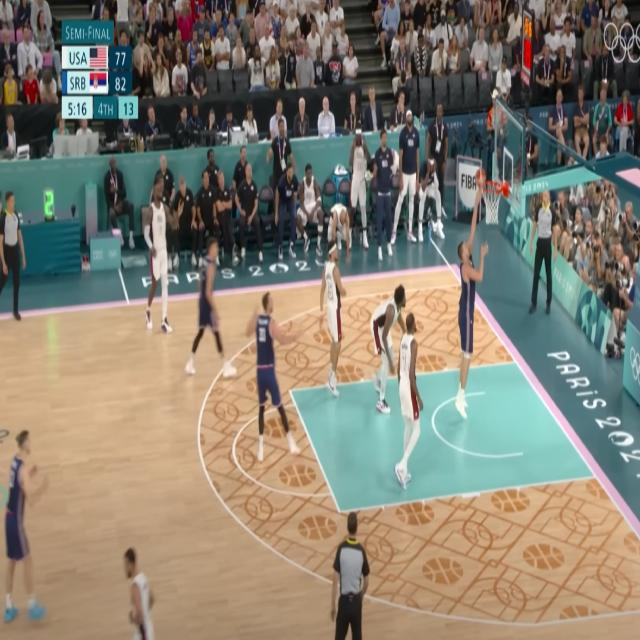basketball: (475, 169, 486, 186)
hoop: (481, 183, 505, 229)
